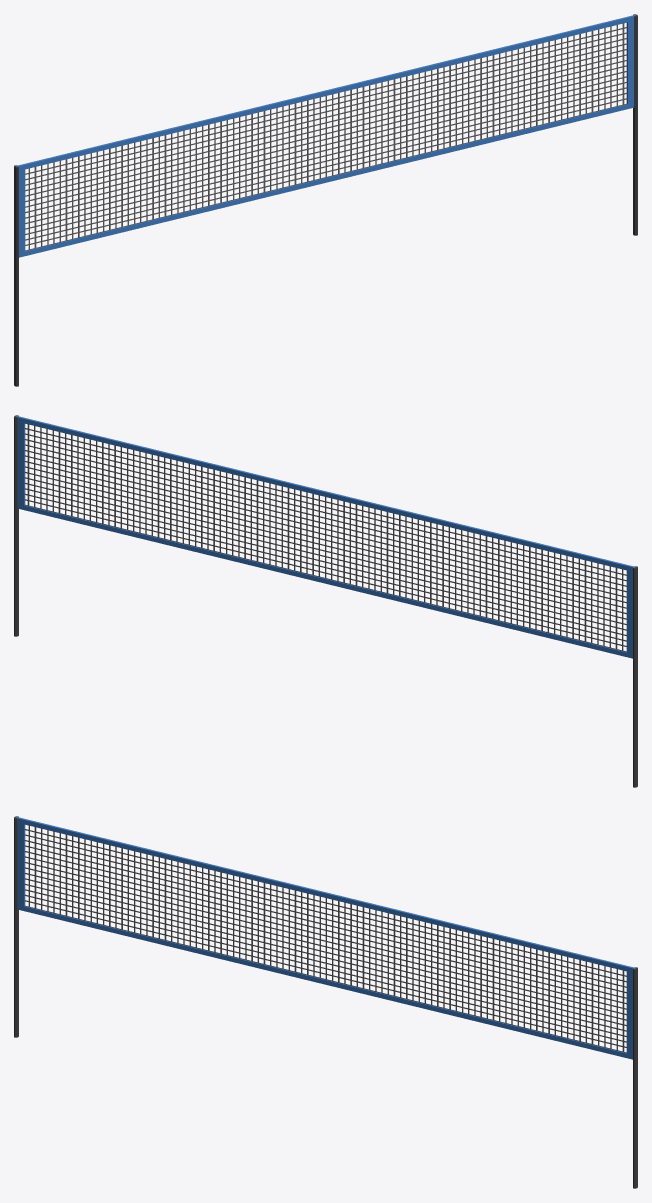
File: Volleyball Net.fbx
3 renders of one model, top to bottom at view 1: azimuth 30°, elevation 25°; view 2: azimuth 150°, elevation 25°; view 3: azimuth 330°, elevation 25°, orthographic.
Parts seen in each view (by area): view 1: Net, Volleyball Net; view 2: Net, Volleyball Net; view 3: Net, Volleyball Net.
Boxes of the visible parts, x1=… form: Net: x1=16, y1=15, x2=635, y2=257; Volleyball Net: x1=14, y1=14, x2=637, y2=386; Net: x1=16, y1=416, x2=635, y2=658; Volleyball Net: x1=14, y1=415, x2=637, y2=787; Net: x1=16, y1=817, x2=635, y2=1059; Volleyball Net: x1=14, y1=816, x2=637, y2=1188.
Bounding box in the file's own units: 3926 × 1320 × 34.
